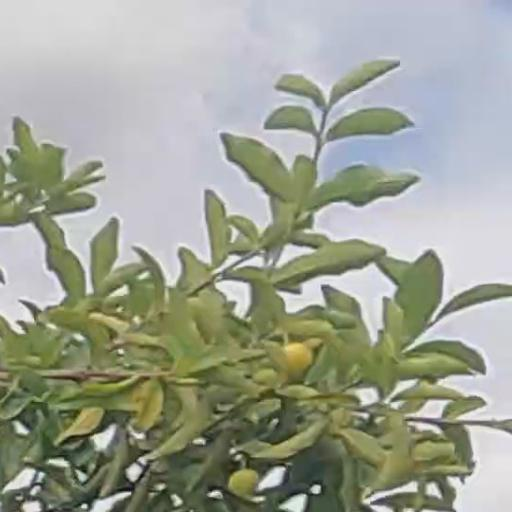acerola_verde: (283, 343, 310, 379), (231, 470, 258, 496)
